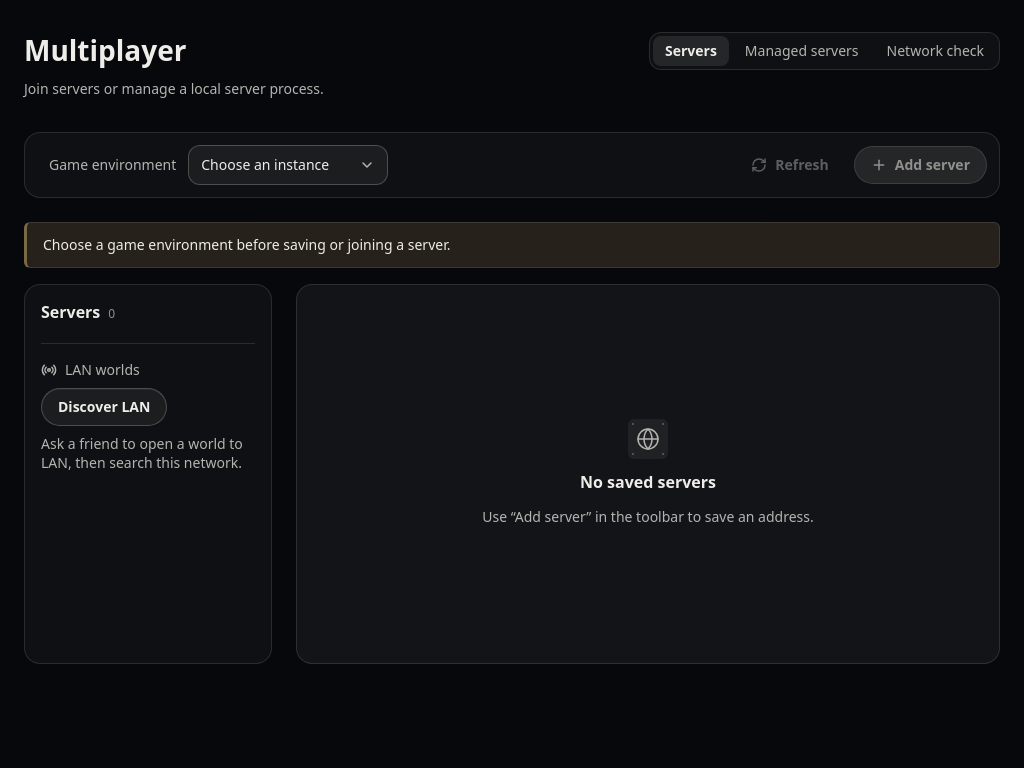
NetworkCheckPanel › shows symmetric NAT and CGNAT warnings without fabricating direct IPv4
The width and height of the screenshot is (1024, 768).
Click the tab "Network check" at [935, 51], box [875,36,996,66]
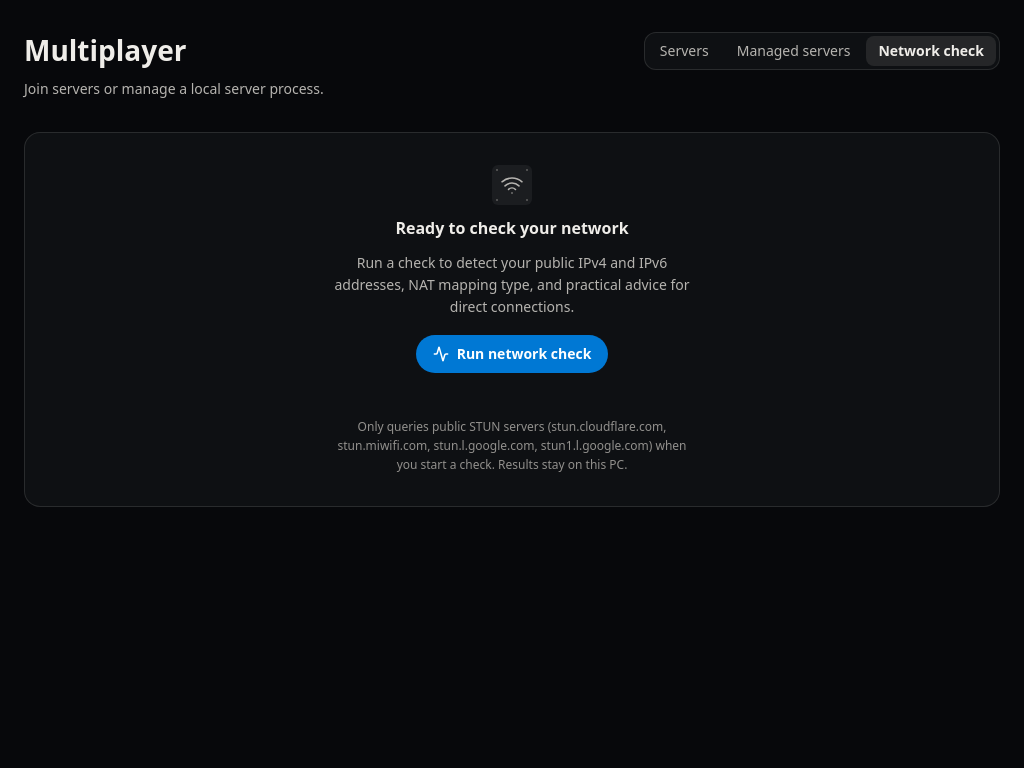
Click the button "Run network check" at [512, 354], box [416,335,608,373]
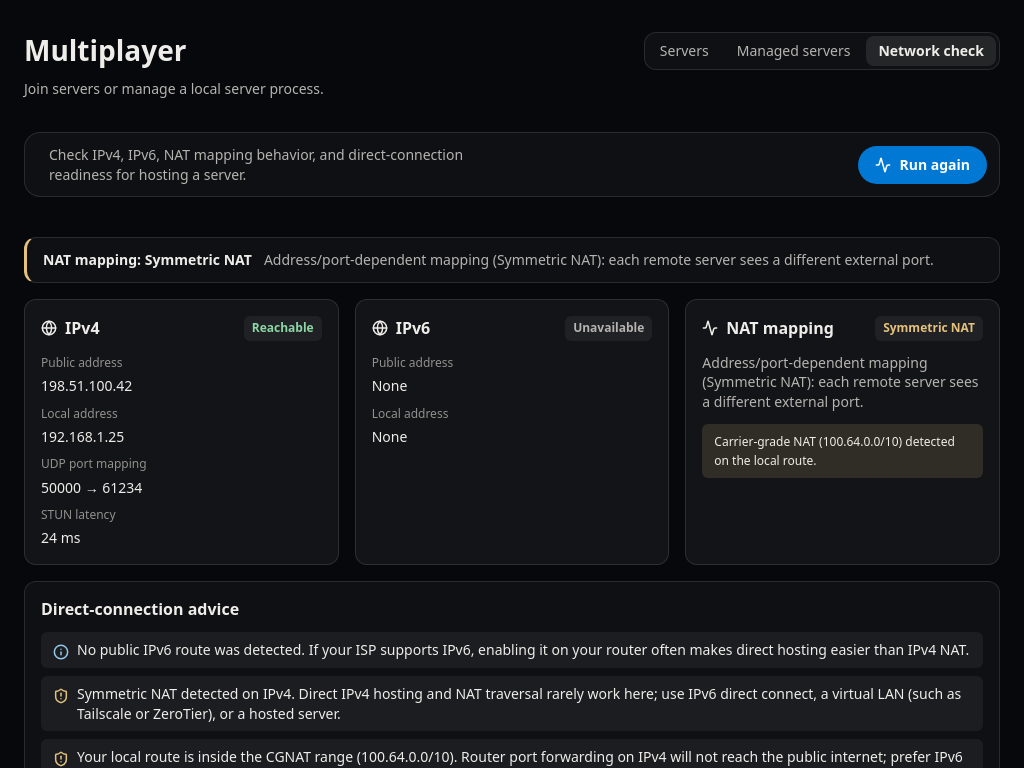
Expected: the text "Symmetric NAT" is shown, [145,250,252,269]
Expected: the text "Carrier-grade NAT (100.64.0.0/10)" is shown, [714,432,955,469]
